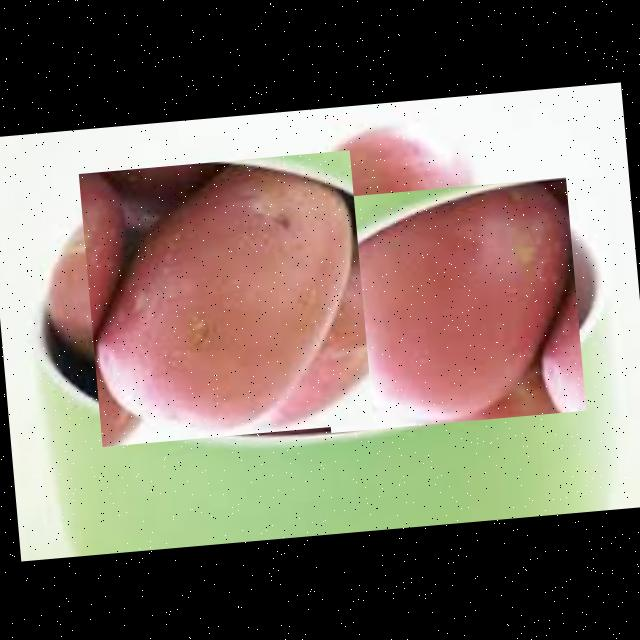Defected potato: (77, 148, 372, 446), (310, 176, 584, 432)
